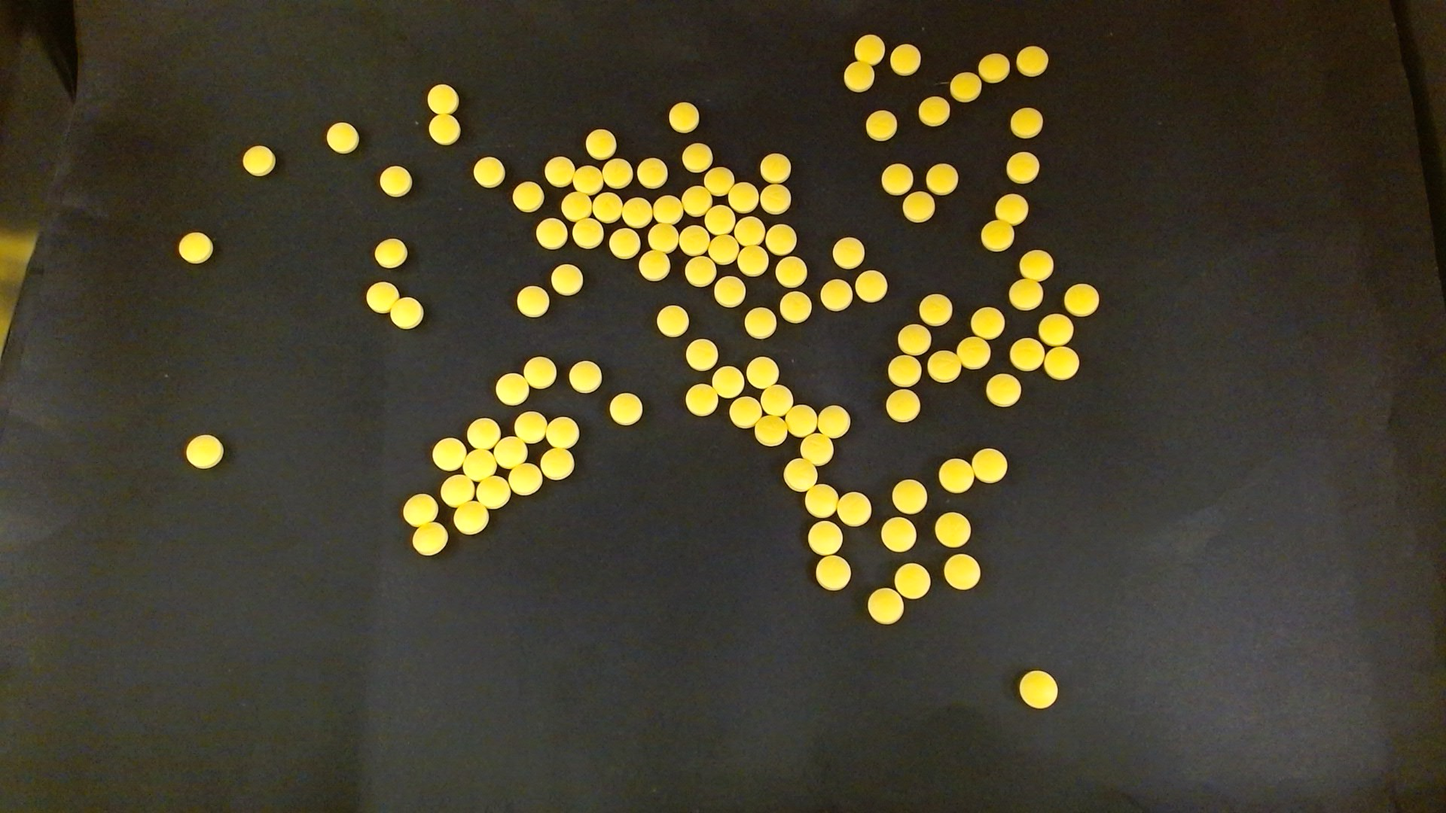Circle: (1019, 670, 1057, 709), (185, 434, 223, 469), (935, 512, 971, 548), (944, 554, 980, 589), (894, 562, 929, 598), (816, 556, 852, 591), (881, 517, 916, 552), (973, 448, 1008, 483), (411, 522, 447, 556), (539, 446, 574, 480), (837, 492, 872, 526), (892, 480, 927, 514), (938, 458, 972, 492), (868, 589, 902, 623), (432, 437, 466, 471), (403, 492, 438, 525), (1063, 283, 1098, 316), (986, 373, 1020, 406), (807, 520, 841, 553), (454, 501, 488, 534), (682, 185, 715, 219), (1039, 313, 1073, 346), (1044, 347, 1079, 379), (509, 461, 542, 494), (441, 474, 474, 507), (1011, 337, 1044, 370), (609, 392, 642, 425), (886, 390, 920, 422), (515, 286, 549, 318), (178, 232, 213, 263), (957, 336, 990, 368), (805, 484, 838, 516), (817, 405, 850, 437), (476, 476, 509, 508), (390, 297, 423, 329), (981, 219, 1014, 251), (495, 373, 527, 406), (1007, 151, 1040, 183), (462, 449, 496, 480), (1019, 249, 1053, 280), (784, 458, 816, 490), (780, 291, 812, 323), (467, 417, 499, 449), (551, 263, 583, 295), (569, 361, 601, 393), (524, 356, 556, 388), (656, 304, 688, 336), (881, 163, 913, 195), (801, 433, 834, 464), (927, 351, 960, 382), (972, 307, 1005, 338), (545, 416, 578, 447), (995, 193, 1028, 224), (902, 191, 935, 222), (535, 218, 568, 249), (920, 294, 953, 325), (242, 145, 275, 176), (761, 385, 793, 416), (494, 436, 526, 467), (711, 365, 743, 396), (746, 357, 778, 388), (714, 276, 746, 307), (685, 384, 717, 415), (639, 249, 670, 281), (685, 339, 717, 370), (366, 281, 398, 312), (1011, 106, 1042, 138), (473, 156, 505, 187), (1016, 45, 1048, 76), (326, 122, 358, 153), (1008, 279, 1041, 309), (374, 238, 407, 268), (379, 166, 412, 196), (730, 396, 761, 427), (755, 415, 786, 446), (571, 217, 602, 248), (776, 257, 807, 288), (821, 279, 852, 310), (512, 181, 543, 212), (833, 237, 864, 268), (853, 34, 884, 65), (898, 324, 930, 354), (888, 355, 920, 385), (856, 270, 886, 302), (785, 405, 816, 435), (515, 413, 546, 443), (685, 255, 715, 286), (744, 307, 775, 337), (918, 96, 949, 126), (865, 110, 896, 140), (585, 129, 615, 160), (844, 60, 874, 91), (426, 84, 457, 114), (738, 244, 768, 274), (609, 228, 639, 258), (679, 224, 709, 254), (734, 215, 764, 245), (622, 197, 652, 227), (926, 163, 956, 193), (637, 157, 667, 187), (682, 142, 712, 172), (429, 114, 459, 144), (890, 44, 920, 74), (561, 190, 590, 221), (761, 184, 792, 213), (766, 224, 795, 254), (704, 205, 734, 234), (592, 191, 621, 221), (728, 182, 757, 212), (652, 194, 682, 223), (602, 158, 632, 187), (545, 156, 574, 186), (761, 153, 791, 182), (573, 164, 602, 193), (979, 53, 1008, 82), (648, 221, 676, 251), (669, 102, 697, 132), (709, 234, 737, 263), (704, 166, 733, 194), (950, 72, 979, 100)
